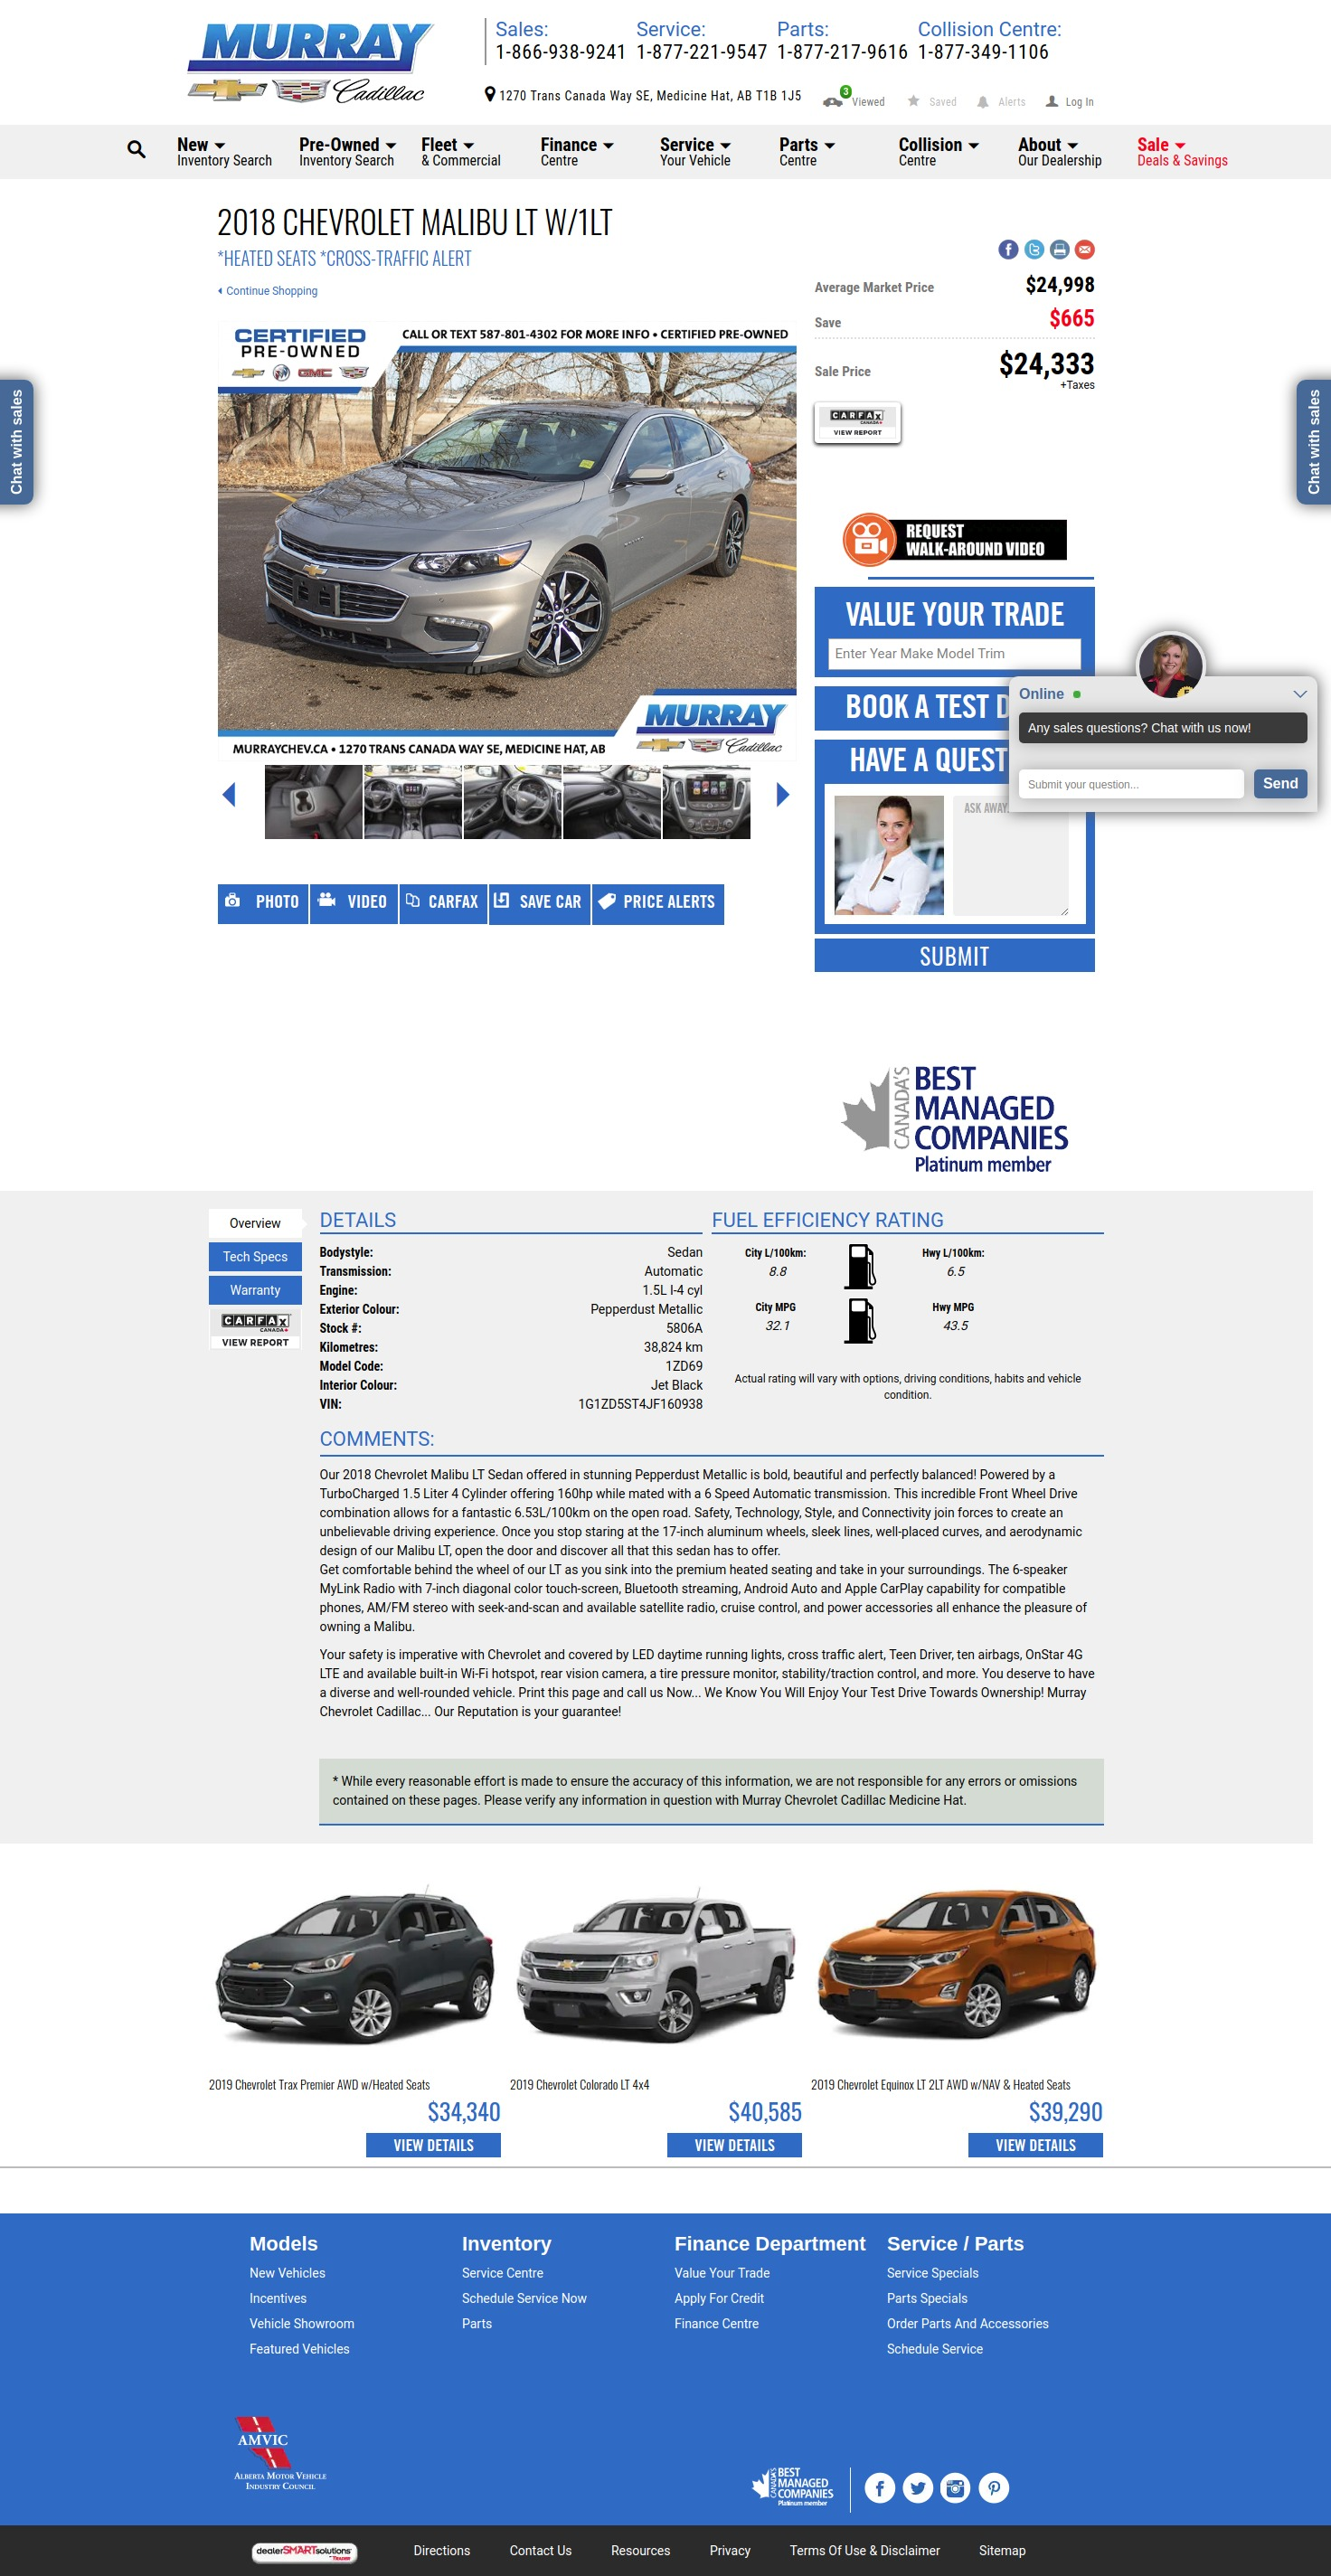car: (774, 781, 793, 809)
